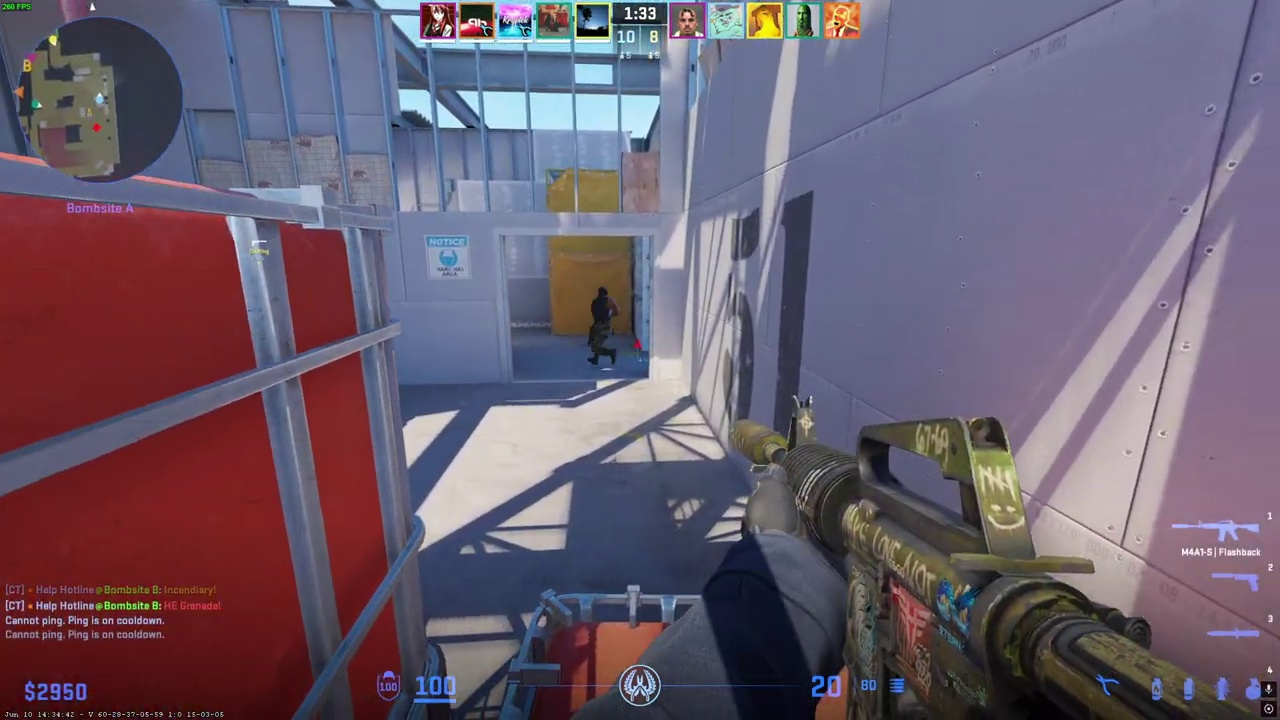Terrorist: (587, 286, 619, 365)
